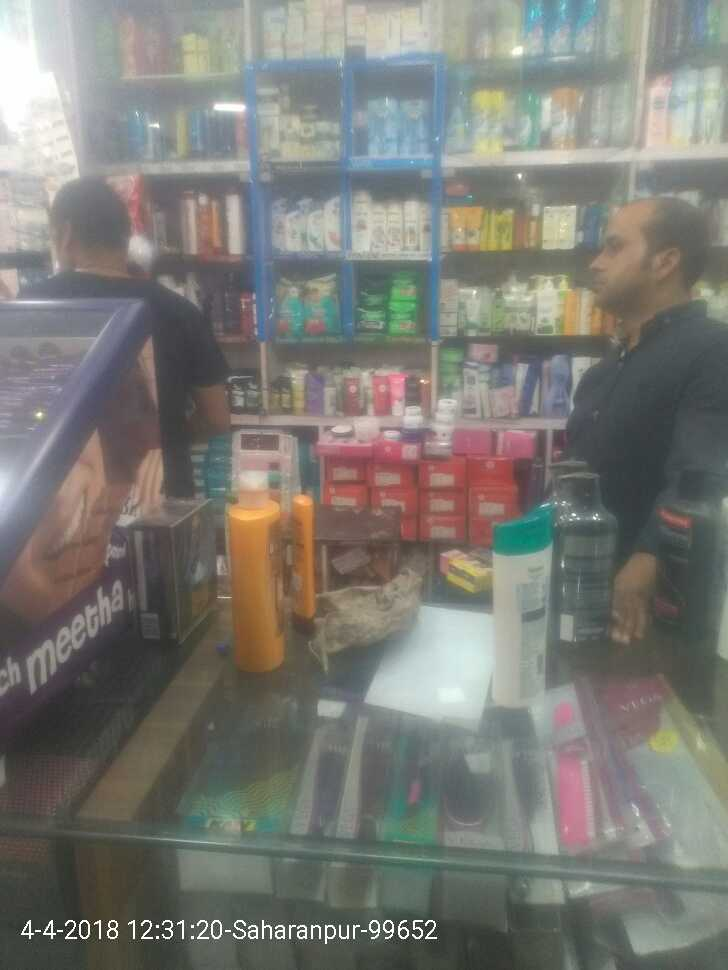venus: (367, 97, 401, 157), (402, 98, 433, 157)
